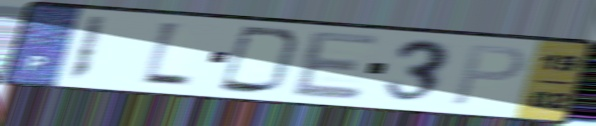3: (380, 37, 460, 107)
D: (214, 23, 306, 97)
E: (289, 28, 383, 102)
I: (62, 13, 111, 84)
L: (137, 18, 196, 91)
P: (447, 43, 529, 108)
